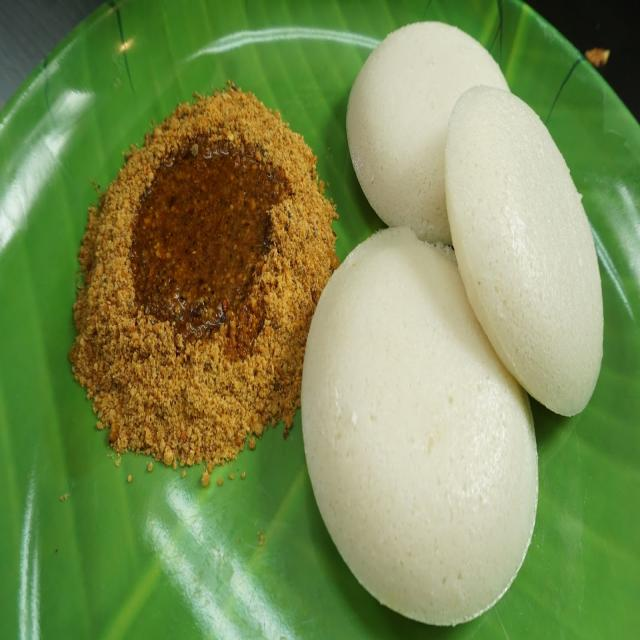idli: (299, 226, 542, 628), (440, 84, 611, 422), (344, 19, 518, 235)
